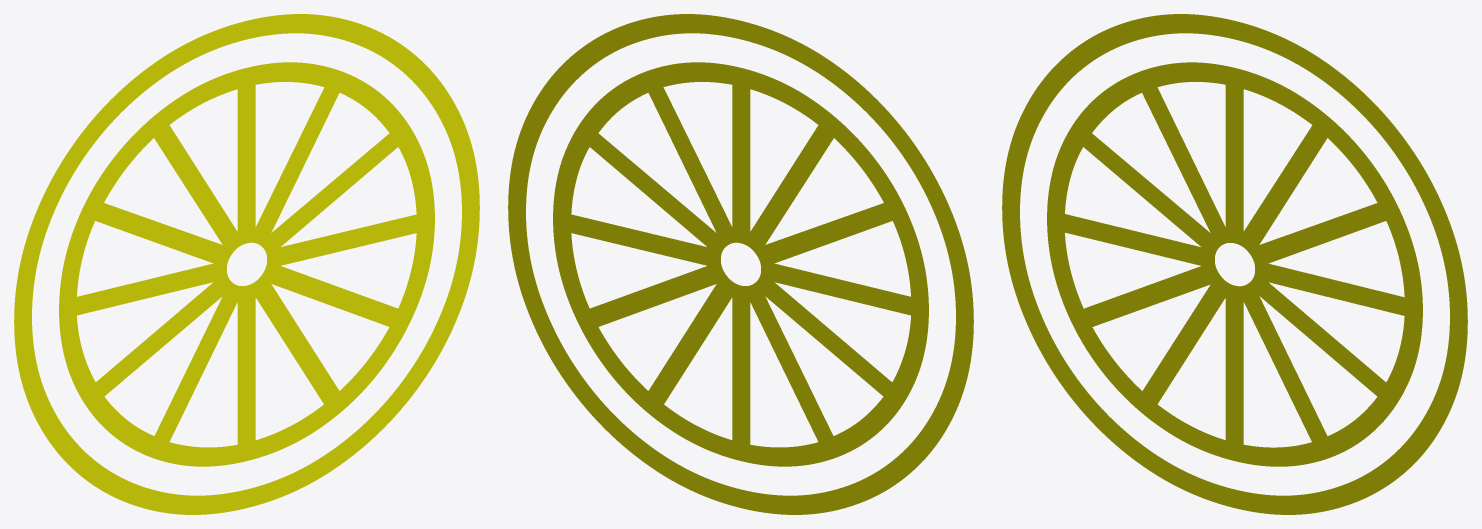
File: wheel_model.glb
3 renders of one model, left to right at view 1: azimuth 30°, elevation 25°; view 2: azimuth 150°, elevation 25°; view 3: azimuth 330°, elevation 25°, orthographic.
Parts seen in each view (by area): view 1: Text.967_967; view 2: Text.967_967; view 3: Text.967_967.
Part boxes in pixels (x1,y1,x2,y2): Text.967_967: (14, 14, 479, 514); Text.967_967: (508, 14, 973, 514); Text.967_967: (1002, 14, 1467, 514).
Bounding box in the file's own units: 1.02 × 1.02 × 3.6e-06.
